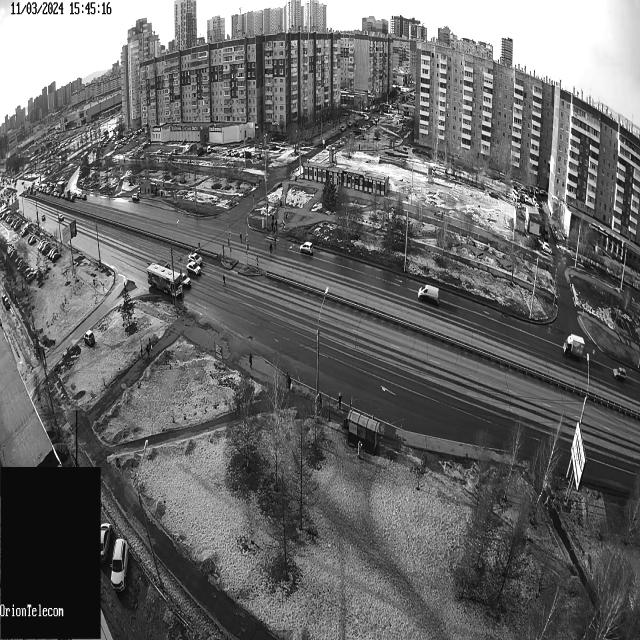car: (146, 262, 184, 298), (109, 536, 131, 596), (563, 334, 586, 362), (416, 283, 440, 308), (177, 269, 192, 291), (185, 260, 202, 279), (298, 239, 314, 258), (188, 250, 203, 268), (614, 366, 628, 384), (83, 330, 96, 347)
